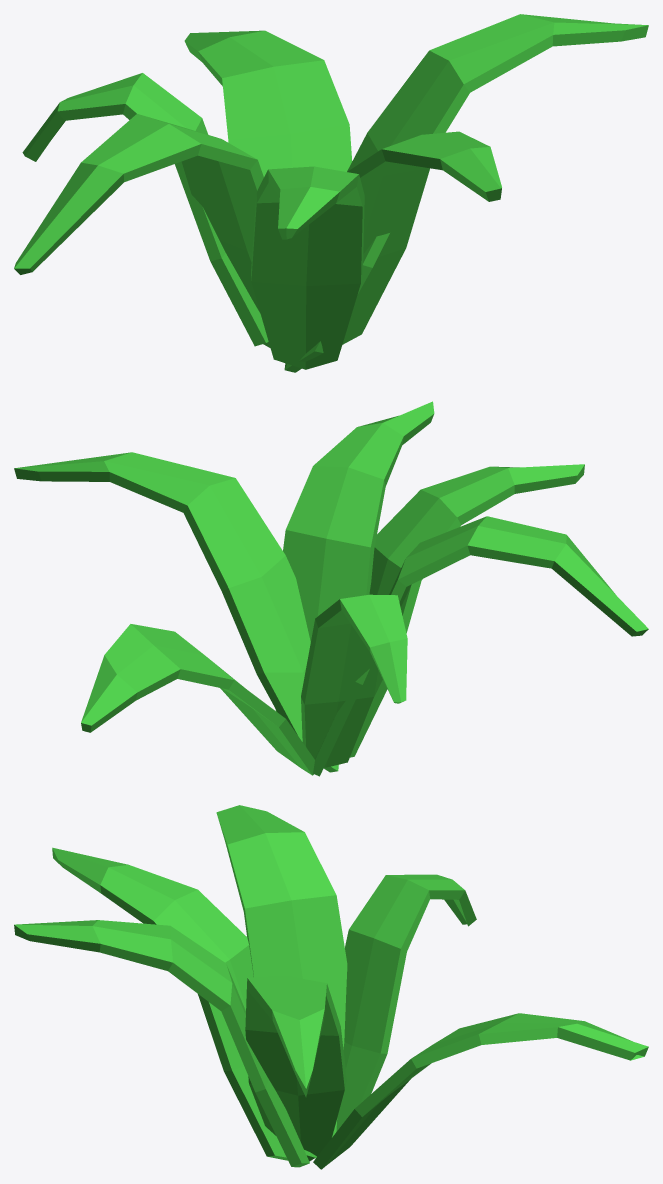
The model's file is GrassPoll4.fbx.
The picture shows the model from 3 angles, top to bottom: view 1: azimuth 30°, elevation 25°; view 2: azimuth 150°, elevation 25°; view 3: azimuth 270°, elevation 25°; orthographic projection. The views are drawn at different scales.
Visible parts, largest first — view 1: GrassPoll.003; view 2: GrassPoll.003; view 3: GrassPoll.003.
Part boxes in pixels (<box>): GrassPoll.003: <box>14,14,648,372</box>; GrassPoll.003: <box>14,401,648,776</box>; GrassPoll.003: <box>14,805,648,1169</box>.
Bounding box in the file's own units: 296 × 126 × 269.
